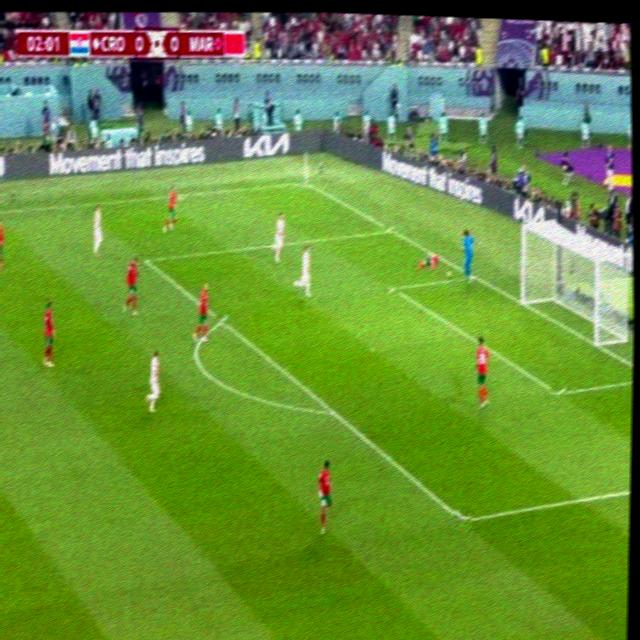bigarea_bottom_inner: (452, 507, 472, 533)
bigarea_top_inner: (137, 251, 150, 268)
bigarea_top_outter: (384, 224, 395, 234)
bottom_arc_area_intersection: (325, 404, 339, 419)
corner: (299, 179, 310, 186)
smallarea_bottom_inner: (548, 380, 566, 404)
smallarea_top_inner: (386, 282, 399, 294)
smallarea_top_outter: (469, 270, 476, 282)
top_arc_area_intersection: (214, 313, 227, 328)
